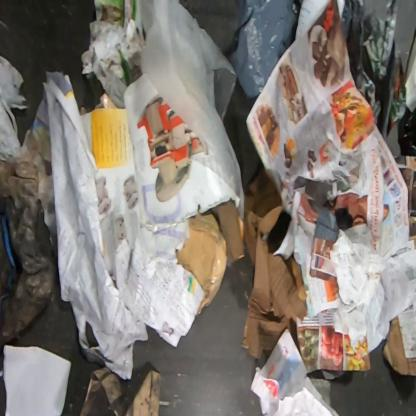cardboard: (240, 166, 308, 361), (175, 209, 228, 315), (78, 365, 163, 415), (201, 199, 245, 265), (382, 298, 415, 377), (391, 234, 415, 258)
soft_plastic: (134, 0, 245, 223), (340, 0, 406, 143), (228, 0, 304, 100)
